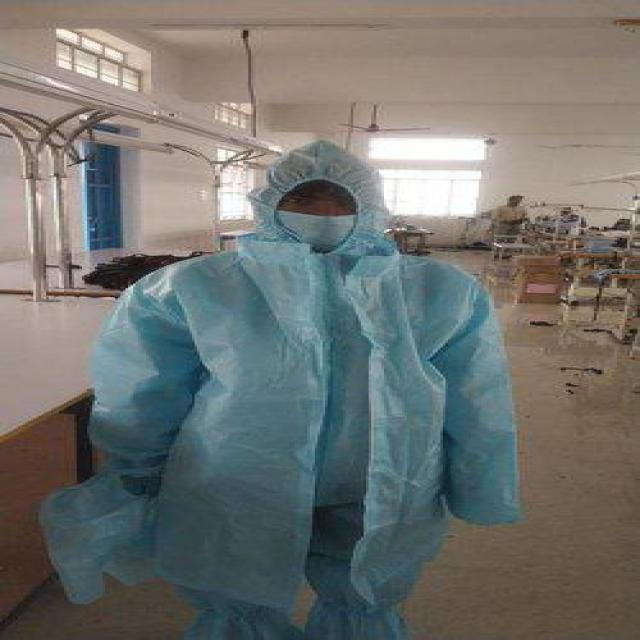Mask: (259, 208, 371, 250)
